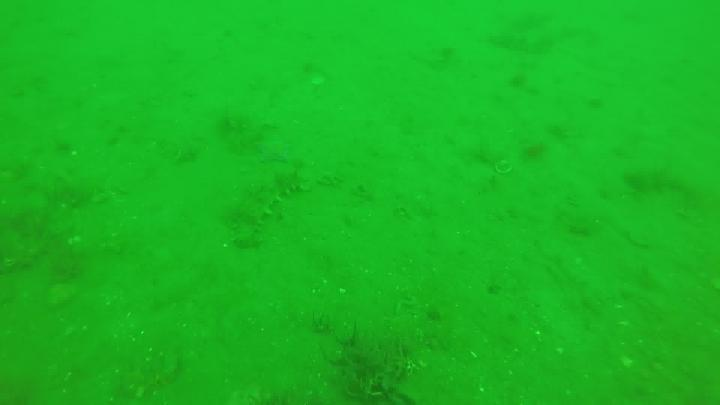holothurian: (232, 173, 316, 249)
scallop: (309, 71, 328, 85), (499, 160, 517, 174)
starfish: (253, 132, 291, 161)
